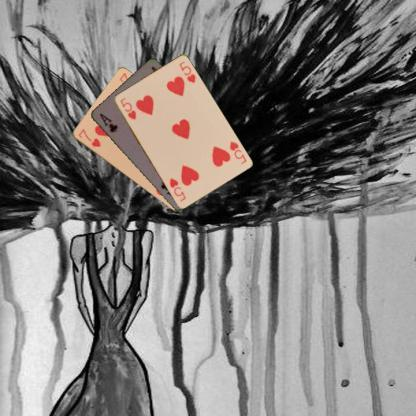5h: (227, 139, 247, 165), (118, 95, 136, 122)
7h: (76, 126, 103, 149)
Ac: (97, 110, 119, 134)
